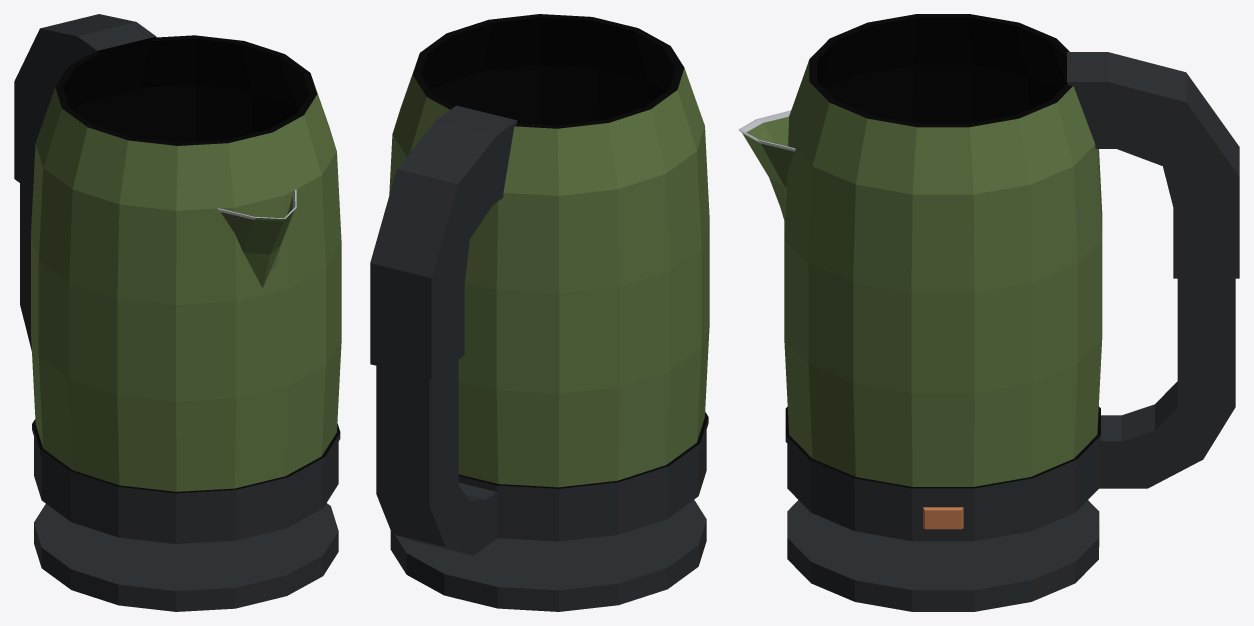
The model's file is kettle_01_B.gltf.
The picture shows the model from 3 angles, left to right: view 1: azimuth 30°, elevation 25°; view 2: azimuth 150°, elevation 25°; view 3: azimuth 270°, elevation 25°; orthographic projection. The views are drawn at different scales.
Parts seen in each view (by area): view 1: kettle_01_B, Electrickettle_01_B; view 2: kettle_01_B, Electrickettle_01_B; view 3: kettle_01_B, Electrickettle_01_B.
Boxes of the visible parts, bbox=[...] form: kettle_01_B: bbox=[14, 14, 341, 543]; Electrickettle_01_B: bbox=[34, 503, 338, 611]; kettle_01_B: bbox=[370, 14, 709, 555]; Electrickettle_01_B: bbox=[390, 500, 706, 611]; kettle_01_B: bbox=[738, 14, 1239, 541]; Electrickettle_01_B: bbox=[787, 500, 1099, 611].
Size of the model in its own units: 0.1594 by 0.2644 by 0.2503.
Materials: 1 (1 with a texture image).
